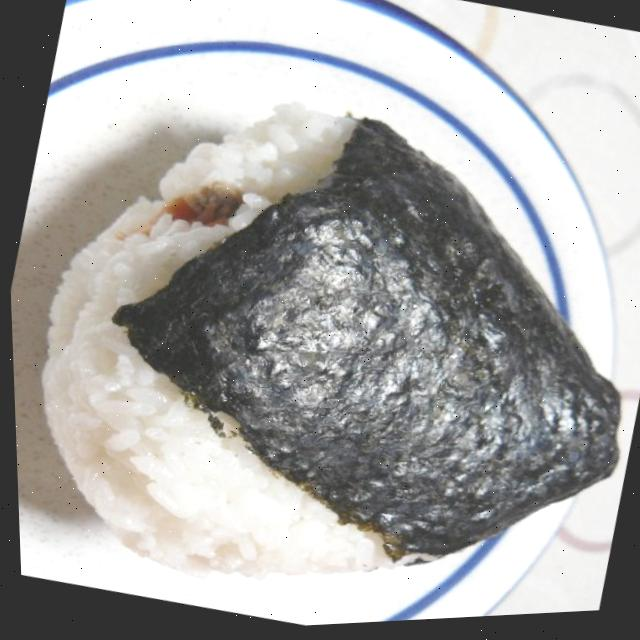米饭主食: (2, 35, 640, 640)
